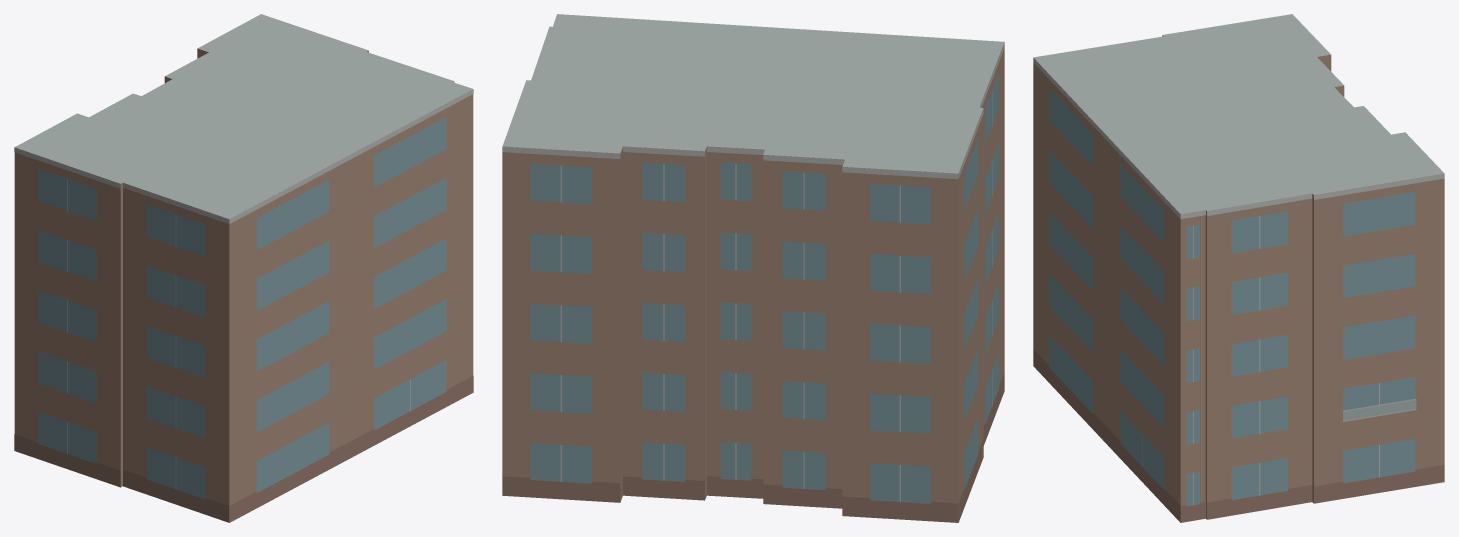
The model's file is survey-upis-32654334.glb.
3 views of the same model, side by side, from view 1: azimuth 30°, elevation 25°; view 2: azimuth 150°, elevation 25°; view 3: azimuth 270°, elevation 25° (orthographic). The views are drawn at different scales.
Visible parts, largest first — view 1: survey-upis-32654334.tmp; view 2: survey-upis-32654334.tmp; view 3: survey-upis-32654334.tmp.
Boxes of the visible parts, left/top/right/bottom form: survey-upis-32654334.tmp: left=14, top=14, right=473, bottom=522; survey-upis-32654334.tmp: left=502, top=14, right=1004, bottom=522; survey-upis-32654334.tmp: left=1033, top=14, right=1444, bottom=522.
Size of the model in its own units: 21.18 by 15.2 by 18.38.
